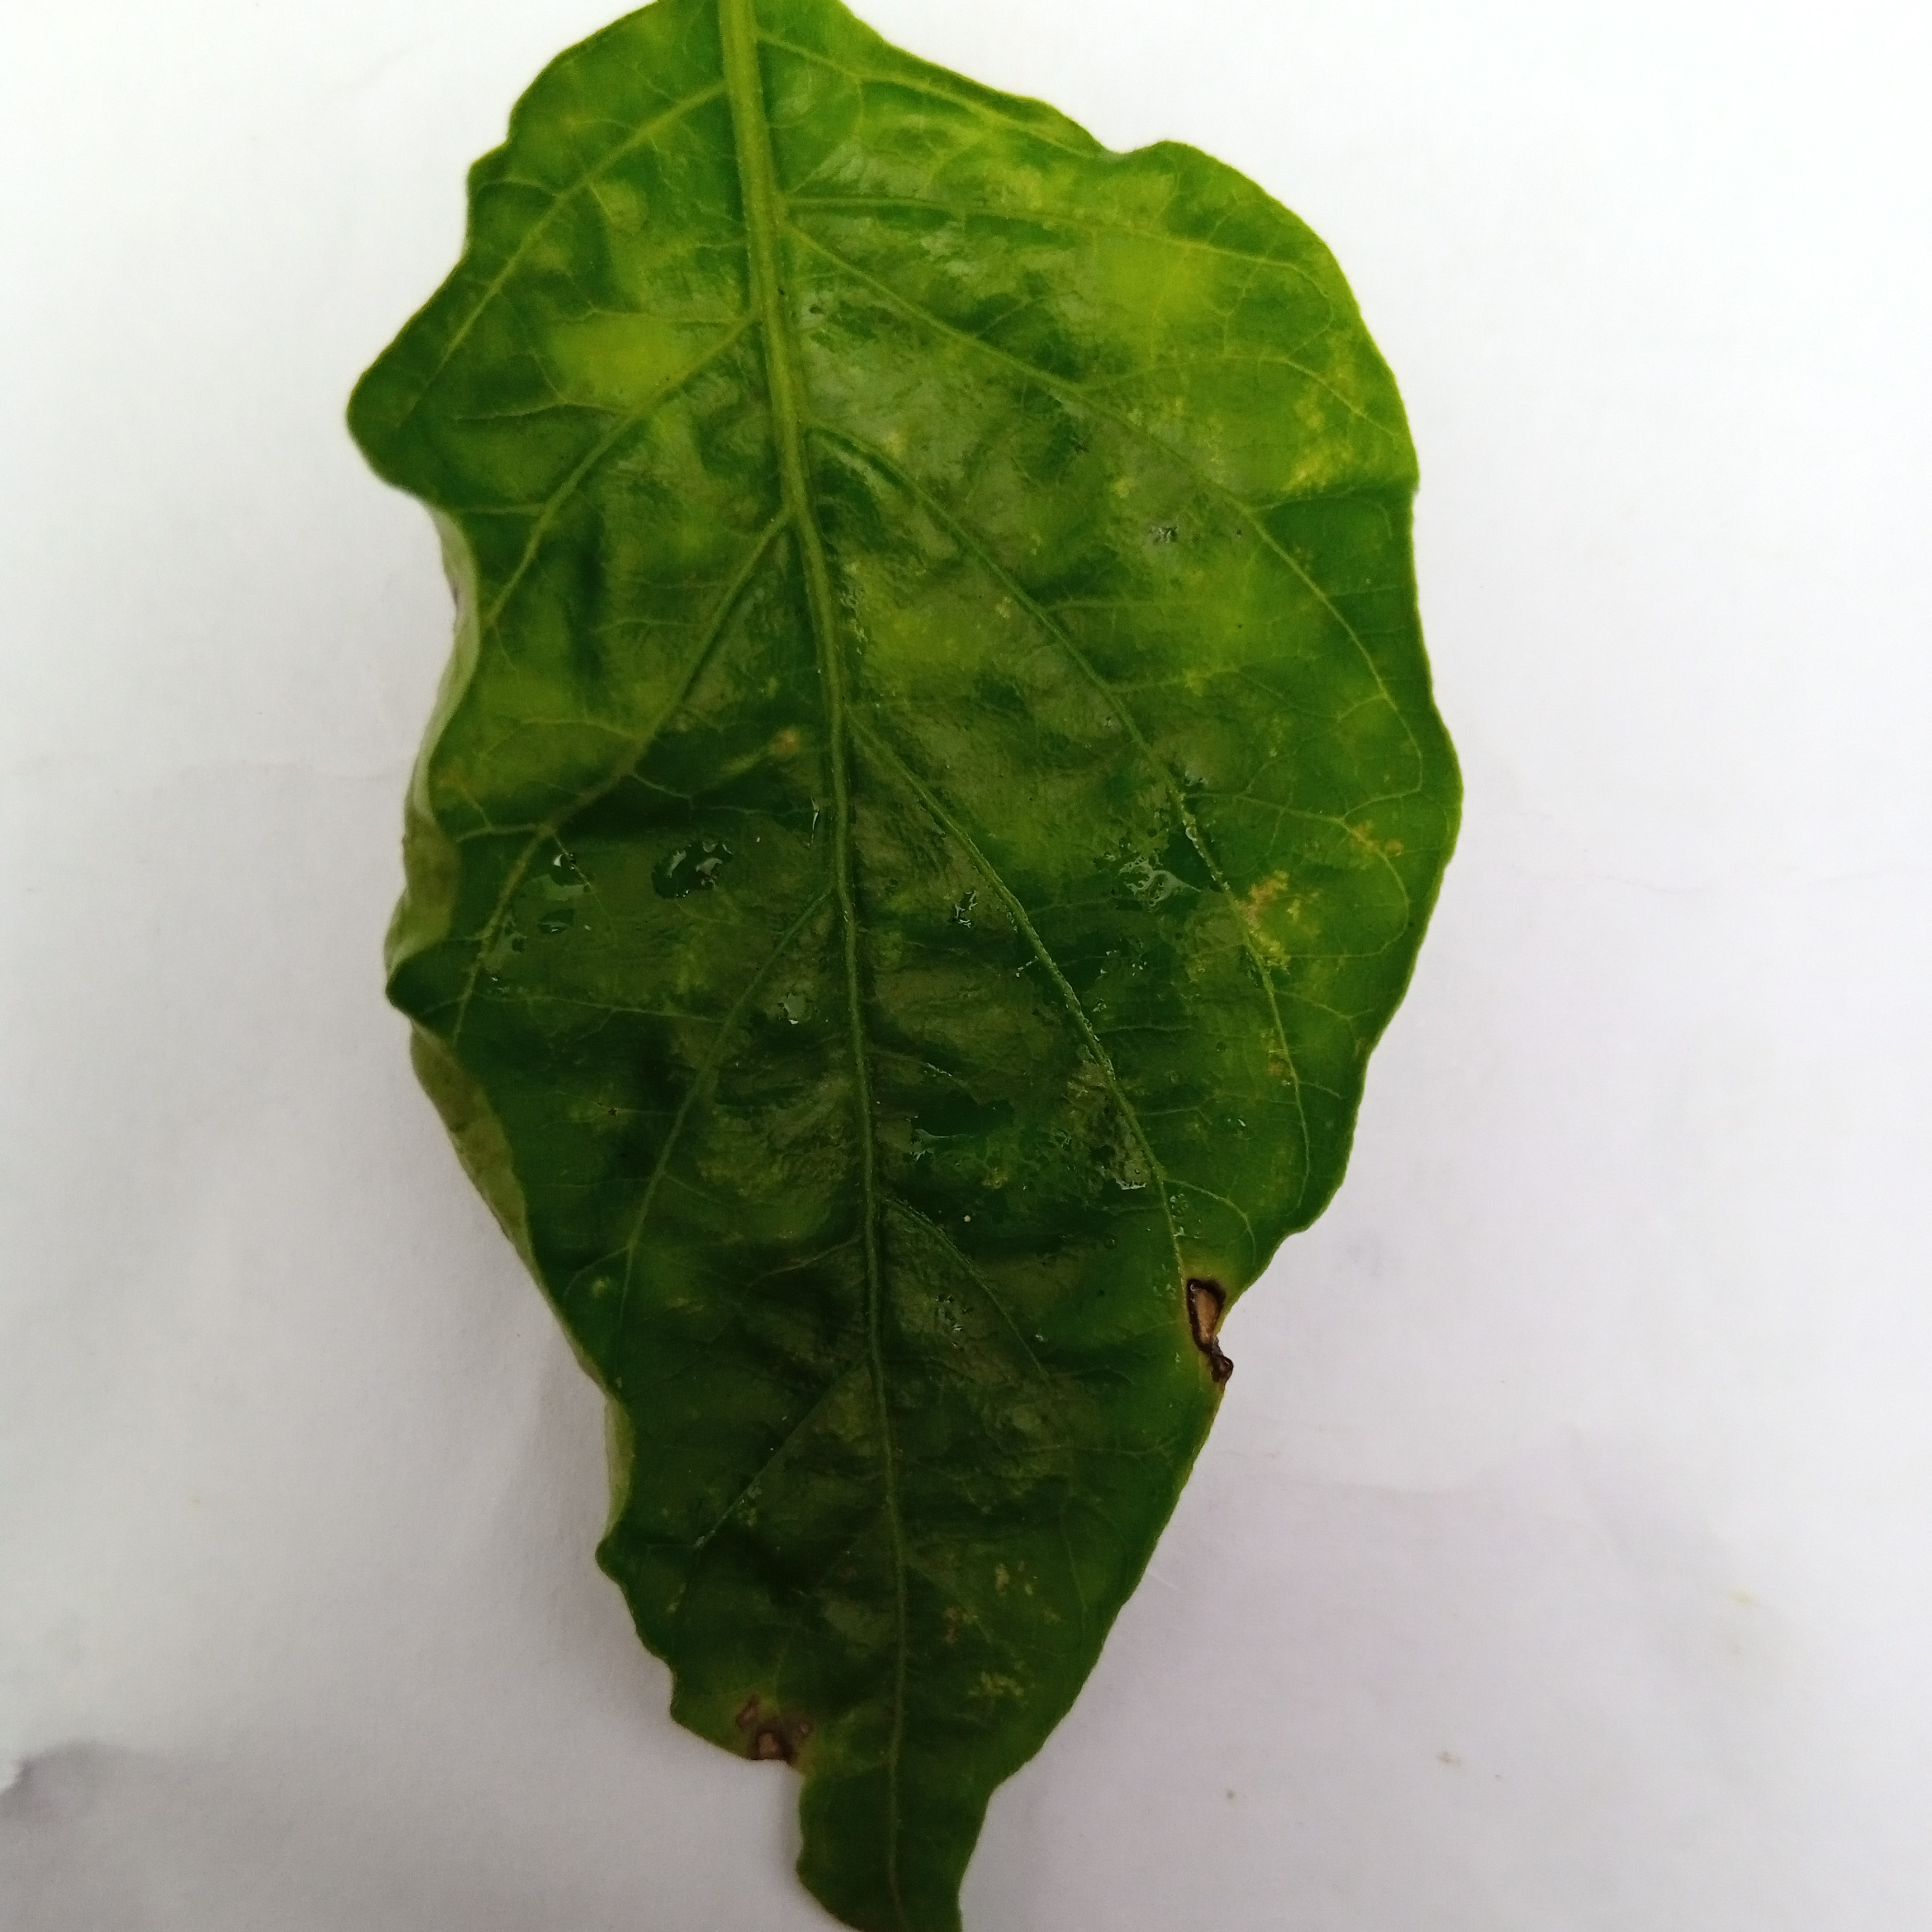Leaf: (260, 0, 1578, 1932)
